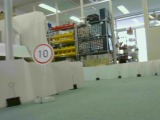speed_10: (32, 43, 54, 65)
